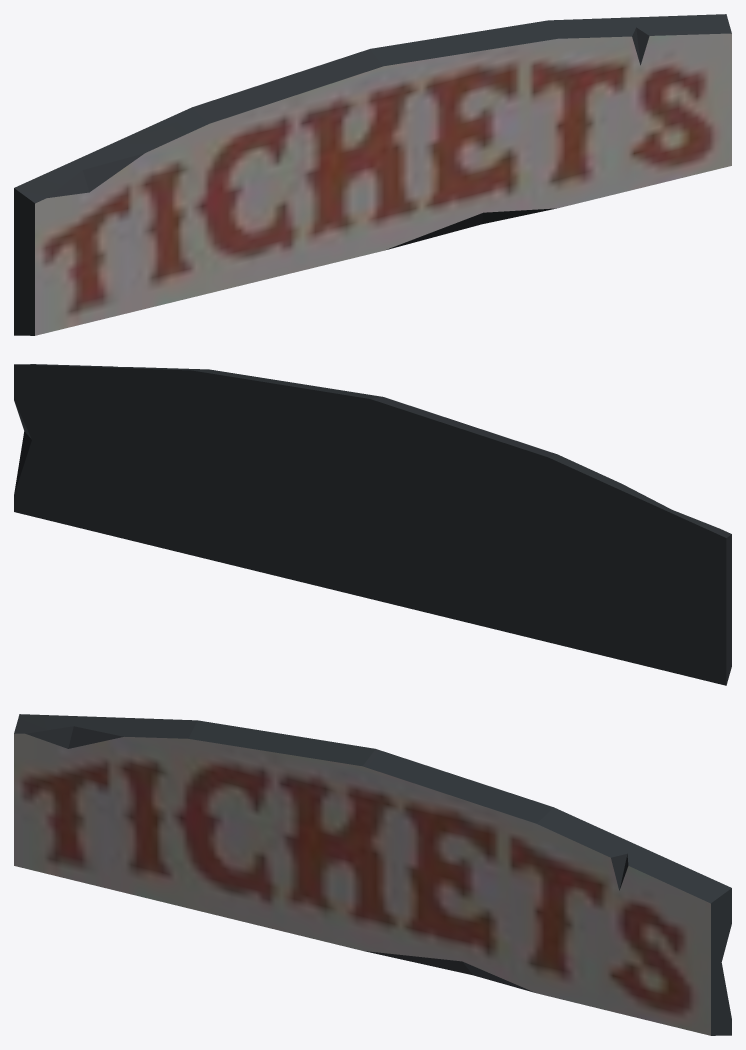
The model's file is sign-tickets.glb.
3 renders of one model, top to bottom at view 1: azimuth 30°, elevation 25°; view 2: azimuth 150°, elevation 25°; view 3: azimuth 330°, elevation 25°, orthographic.
Parts seen in each view (by area): view 1: SM_Prop_Sign_Tickets_01; view 2: SM_Prop_Sign_Tickets_01; view 3: SM_Prop_Sign_Tickets_01.
Boxes of the visible parts, x1,y1,x2,y2 form: SM_Prop_Sign_Tickets_01: (14,14,731,335); SM_Prop_Sign_Tickets_01: (14,364,731,685); SM_Prop_Sign_Tickets_01: (14,714,731,1035).
Bounding box in the file's own units: 220 × 59.05 × 7.14.
1 material, 1 textured.
